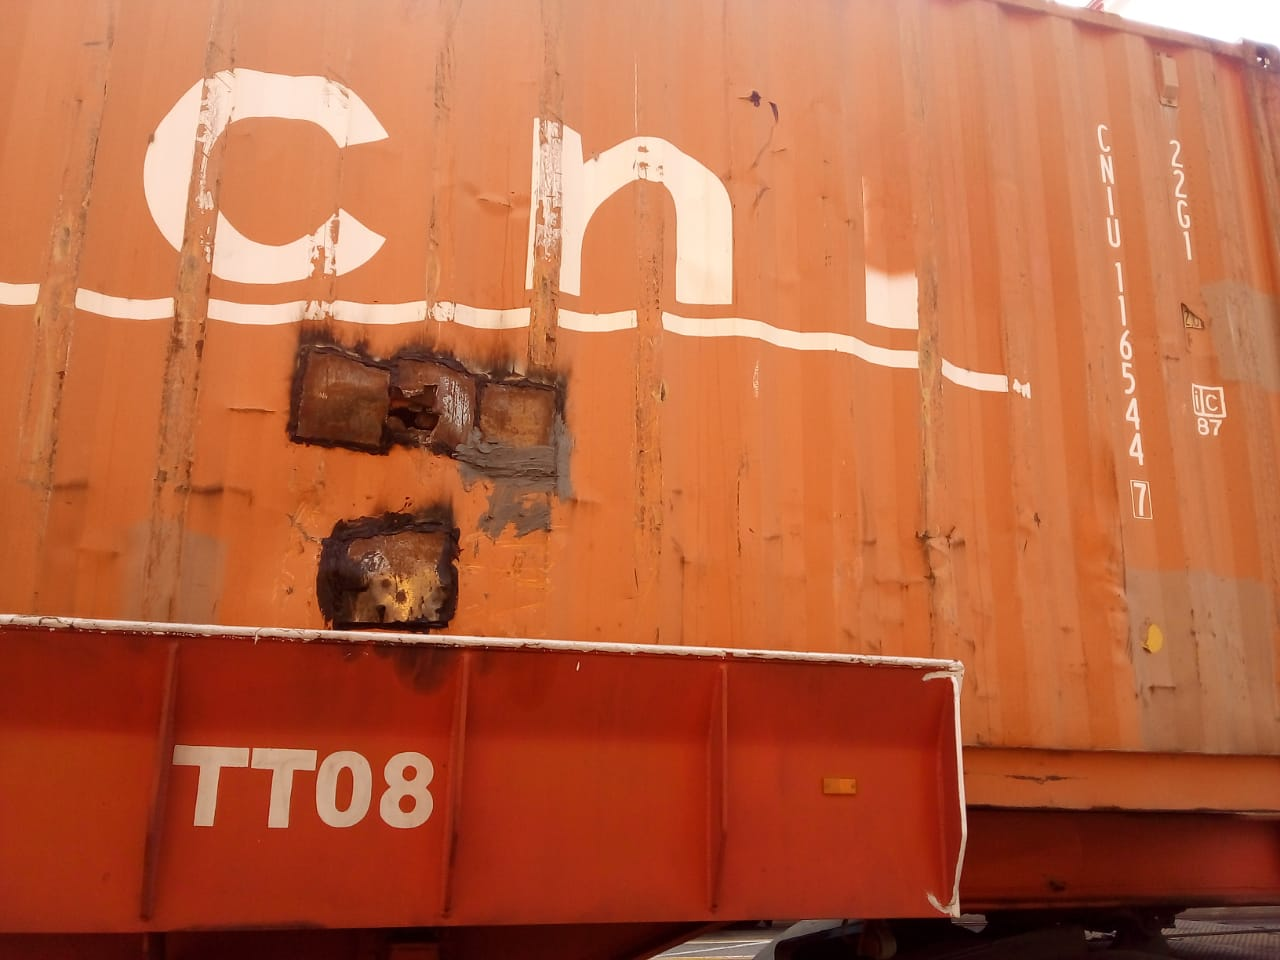cut: (289, 318, 584, 492), (272, 496, 499, 631)
dented: (860, 509, 1006, 595)
